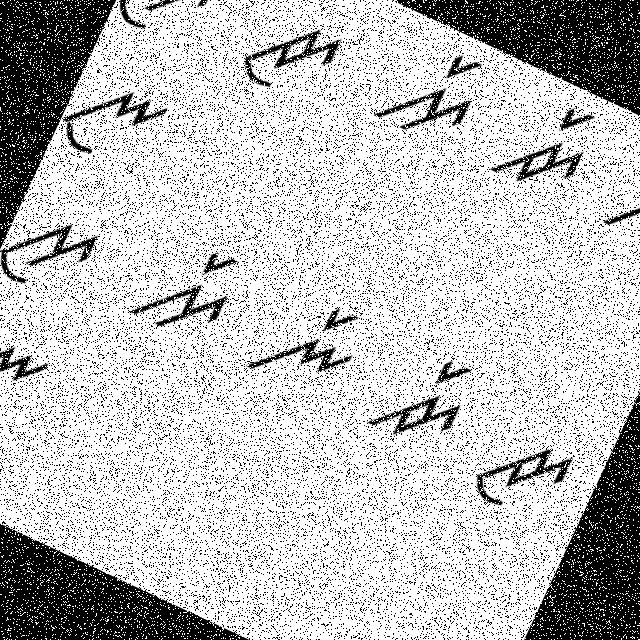jar: (358, 324, 490, 466), (483, 75, 609, 210)
jaw: (221, 0, 359, 118), (460, 409, 586, 536)
nyar: (240, 272, 376, 415), (597, 131, 639, 270)
nyaw: (51, 62, 180, 186), (0, 313, 59, 437)
sar: (358, 26, 493, 165), (126, 221, 254, 357)
saw: (0, 186, 115, 313), (109, 0, 230, 58)
